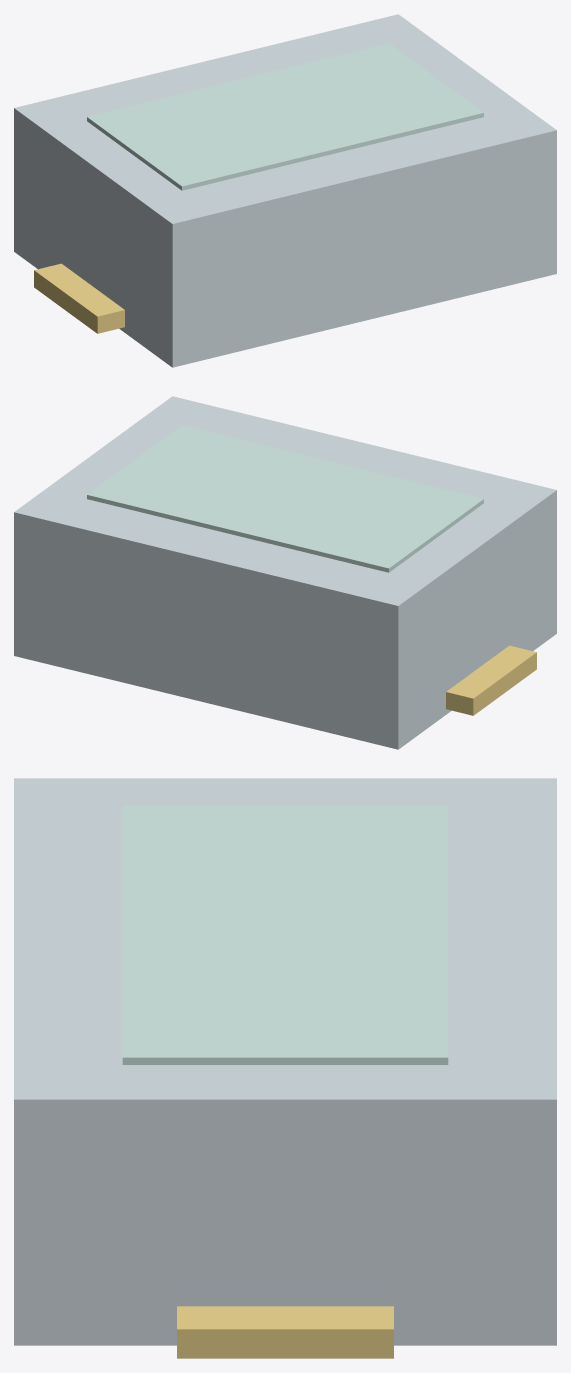
3 views of the same model, one above another, from view 1: azimuth 30°, elevation 25°; view 2: azimuth 150°, elevation 25°; view 3: azimuth 270°, elevation 25° (orthographic). The views are drawn at different scales.
Parts seen in each view (by area): view 1: L122_aluminum__PSMAT__aluminum, L122_labels__PSMAT__labels, L122_gold__PSMAT__gold; view 2: L122_aluminum__PSMAT__aluminum, L122_labels__PSMAT__labels, L122_gold__PSMAT__gold; view 3: L122_aluminum__PSMAT__aluminum, L122_labels__PSMAT__labels, L122_gold__PSMAT__gold.
Boxes of the visible parts, bbox=[...] form: L122_aluminum__PSMAT__aluminum: bbox=[14, 14, 556, 367]; L122_labels__PSMAT__labels: bbox=[87, 43, 483, 190]; L122_gold__PSMAT__gold: bbox=[34, 263, 124, 333]; L122_aluminum__PSMAT__aluminum: bbox=[14, 396, 556, 749]; L122_labels__PSMAT__labels: bbox=[87, 425, 483, 572]; L122_gold__PSMAT__gold: bbox=[446, 645, 536, 715]; L122_aluminum__PSMAT__aluminum: bbox=[14, 778, 556, 1345]; L122_labels__PSMAT__labels: bbox=[122, 805, 448, 1064]; L122_gold__PSMAT__gold: bbox=[177, 1306, 393, 1358].
Bounding box in the file's own units: 0.016 × 0.00515 × 0.01.
